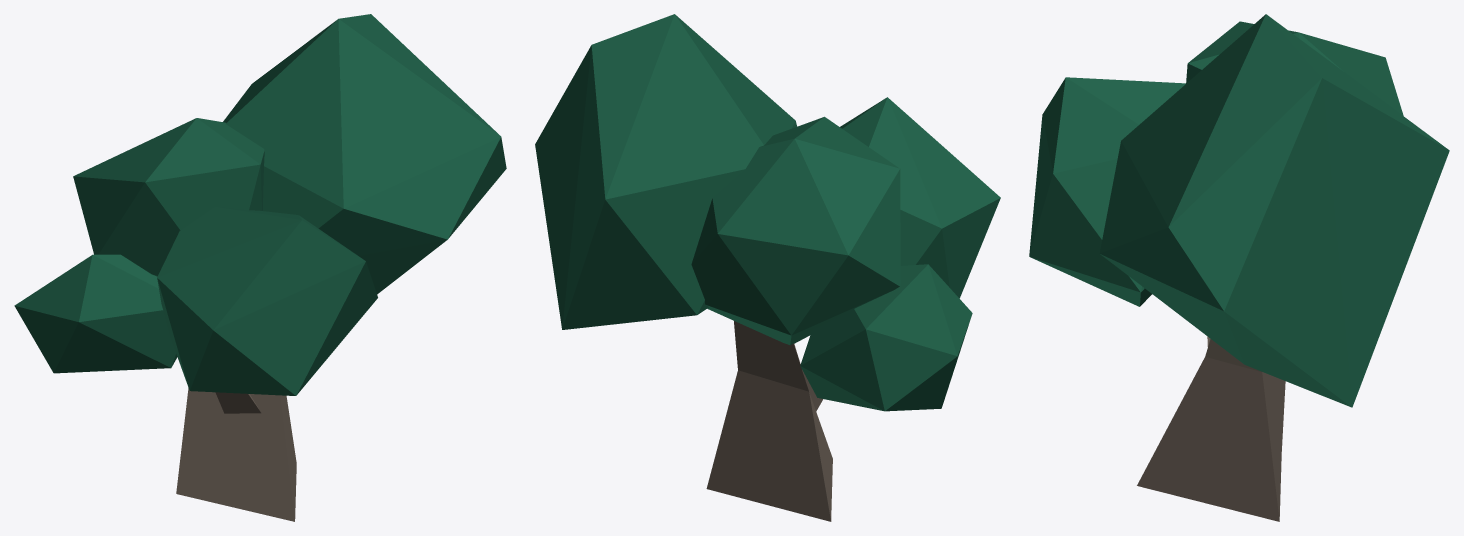
Rendered from barrier_tree_3.fbx.
3 views of the same model, side by side, from view 1: azimuth 30°, elevation 25°; view 2: azimuth 150°, elevation 25°; view 3: azimuth 270°, elevation 25° (orthographic). The views are drawn at different scales.
Parts seen in each view (by area): view 1: tree_3; view 2: tree_3; view 3: tree_3.
Boxes of the visible parts, <box> form: tree_3: <box>14,14,506,521</box>; tree_3: <box>535,14,1000,521</box>; tree_3: <box>1029,14,1449,521</box>.
Size of the model in its own units: 602 by 567 by 407.
